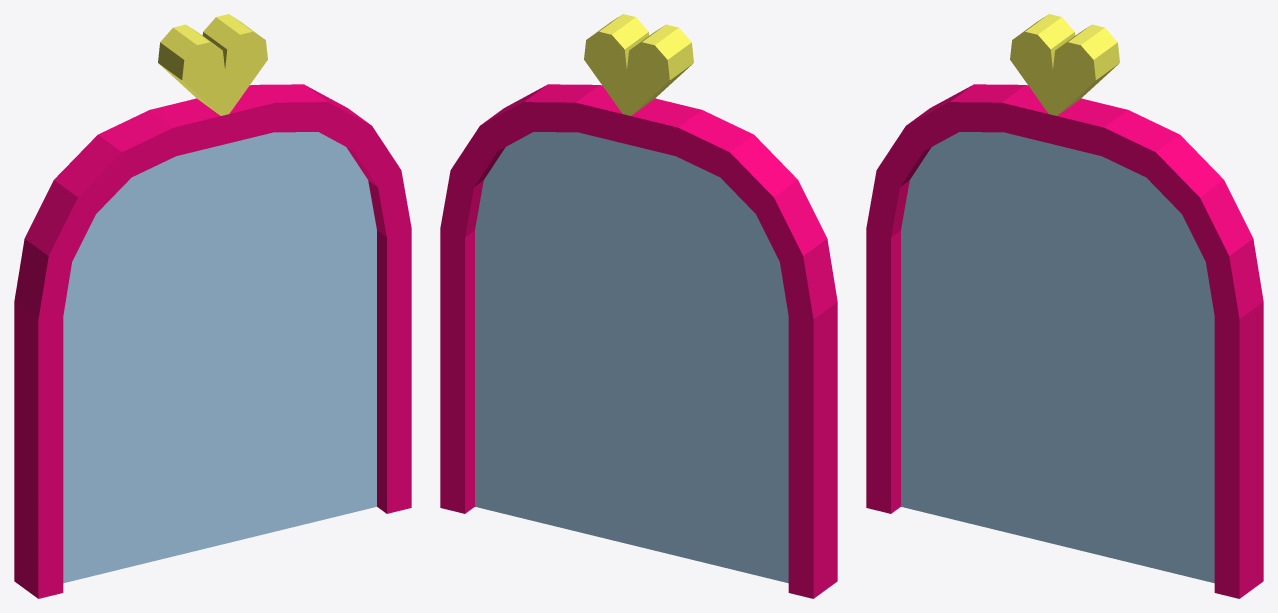
File: geçit.fbx
The picture shows the model from 3 angles, left to right: view 1: azimuth 30°, elevation 25°; view 2: azimuth 150°, elevation 25°; view 3: azimuth 330°, elevation 25°; orthographic projection.
Visible parts, largest first — view 1: Cube; view 2: Cube; view 3: Cube.
Part boxes in pixels (box(x1,y1,x2,y2)): Cube: box(14, 14, 411, 598); Cube: box(440, 14, 837, 598); Cube: box(866, 14, 1263, 598).
Size of the model in its own units: 555 by 732 by 62.27.
